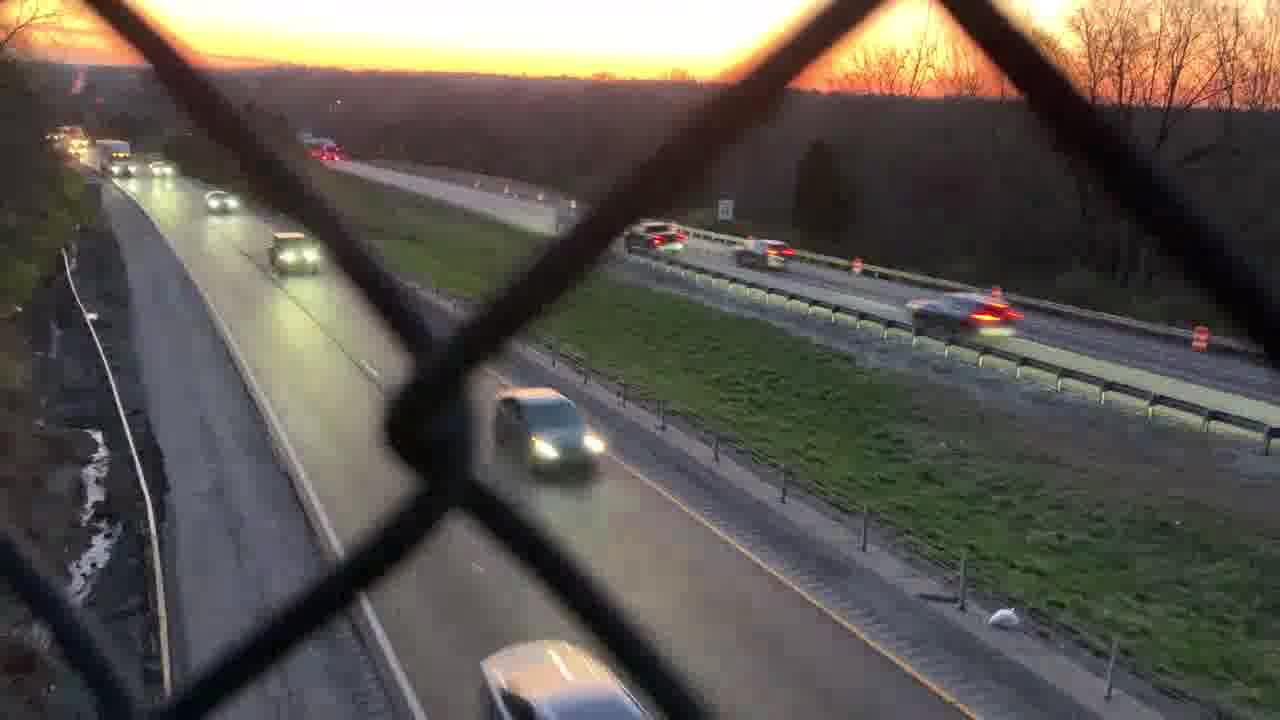lightTruck: (611, 217, 684, 260)
smallCar: (494, 388, 609, 480)
